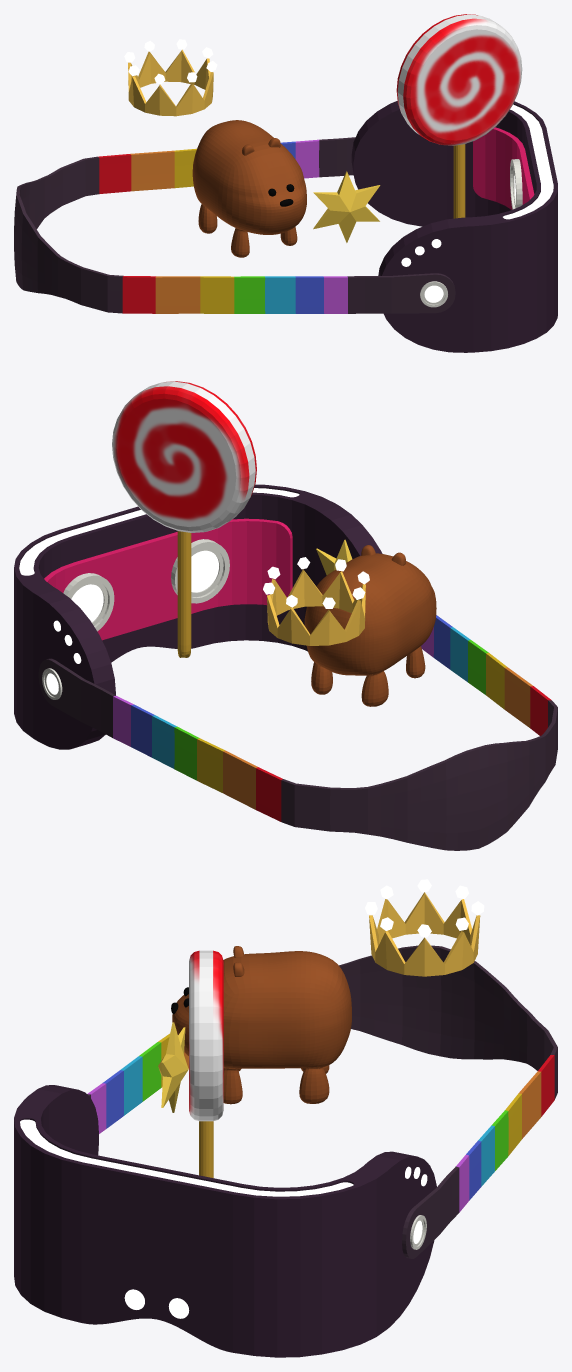
The model's file is vr_playground_ar.gltf.
3 views of the same model, one above another, from view 1: azimuth 30°, elevation 25°; view 2: azimuth 150°, elevation 25°; view 3: azimuth 270°, elevation 25° (orthographic). The views are drawn at different scales.
Visible parts, largest first — view 1: Headset, Lollipop, Bear, Crown, Star; view 2: Headset, Lollipop, Bear, Crown; view 3: Headset, Bear, Lollipop, Crown, Star.
Part boxes in pixels (<box>): Headset: <box>14,101,557,352</box>; Lollipop: <box>396,14,522,218</box>; Bear: <box>192,120,306,257</box>; Crown: <box>124,39,217,116</box>; Star: <box>313,171,380,242</box>; Headset: <box>14,484,557,850</box>; Lollipop: <box>112,381,256,657</box>; Bear: <box>304,545,436,706</box>; Crown: <box>263,557,369,645</box>; Headset: <box>14,945,557,1357</box>; Bear: <box>171,946,351,1104</box>; Lollipop: <box>189,950,223,1177</box>; Crown: <box>365,879,484,976</box>; Star: <box>158,1022,188,1112</box>.
Size of the model in its own units: 5.77 by 3.17 by 4.67.
Materials: 19 (1 with a texture image).
